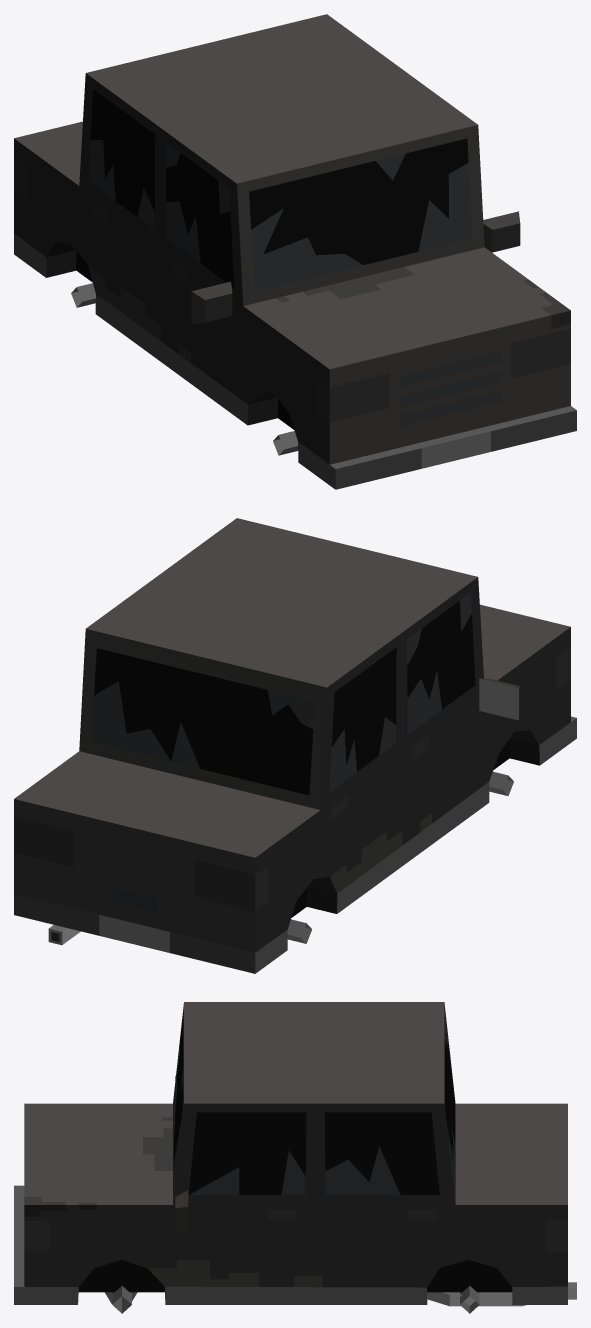
The model's file is SA_Prop_BurntBlack_FamilyCar_01.glb.
3 renders of one model, top to bottom at view 1: azimuth 30°, elevation 25°; view 2: azimuth 150°, elevation 25°; view 3: azimuth 270°, elevation 25°, orthographic. The views are drawn at different scales.
Parts seen in each view (by area): view 1: SA_Prop_BurntBlack_FamilyCar_01; view 2: SA_Prop_BurntBlack_FamilyCar_01; view 3: SA_Prop_BurntBlack_FamilyCar_01.
Boxes of the visible parts, x1,y1,x2,y2 form: SA_Prop_BurntBlack_FamilyCar_01: (14, 14, 576, 489); SA_Prop_BurntBlack_FamilyCar_01: (14, 518, 576, 973); SA_Prop_BurntBlack_FamilyCar_01: (14, 1002, 576, 1313).
Bounding box in the file's own units: 1.41 × 1.05 × 2.44.
1 material, 1 textured.
